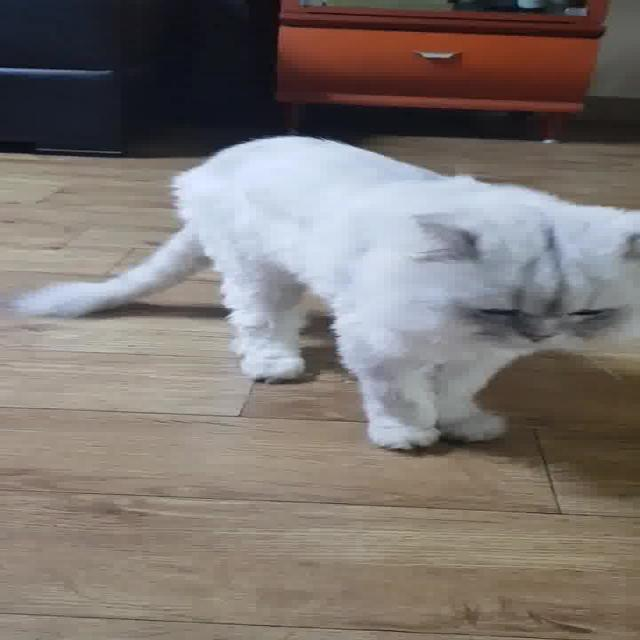cat: (1, 118, 640, 472)
